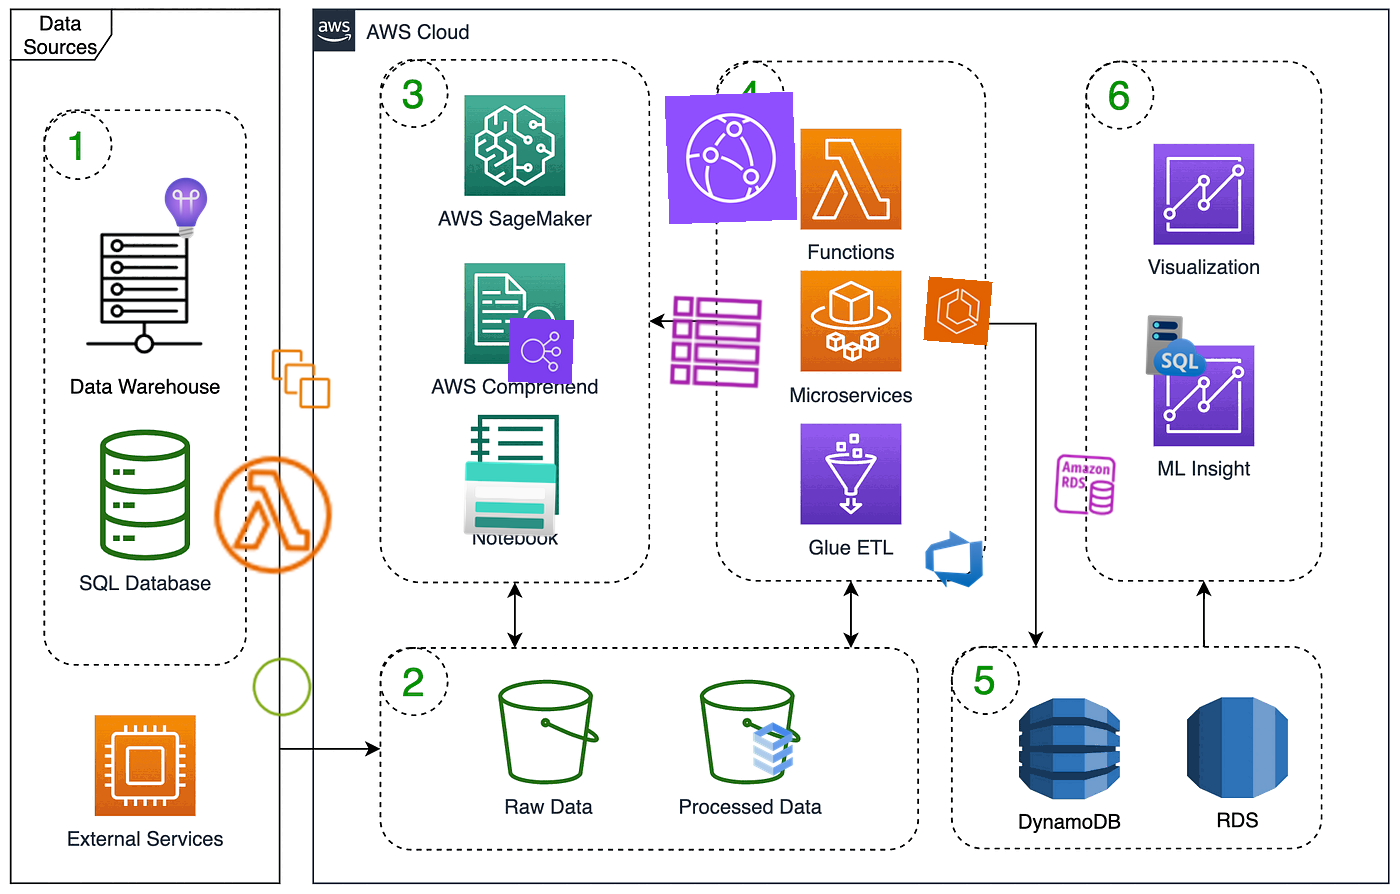aws_amazon_cloudfront: (664, 91, 798, 225)
aws_amazon_elastic_container_service: (923, 276, 993, 346)
aws_aurora_amazon_rds_instance: (1051, 451, 1119, 519)
aws_dynamodb_table: (665, 291, 767, 393)
aws_ec2_instances: (268, 346, 334, 412)
aws_elastic_load_balancing: (507, 317, 576, 385)
aws_lambda_lambda_function: (207, 449, 339, 581)
aws_simple_storage_service_object: (247, 652, 317, 722)
azure_application_insights: (153, 175, 219, 241)
azure_devops: (921, 526, 987, 592)
azure_sql_managed_instance: (1143, 312, 1211, 380)
azure_storage_accounts: (460, 449, 560, 549)
gcp_cloud_sql: (740, 716, 806, 782)
